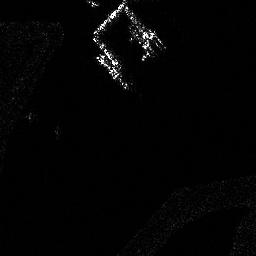ship: (95, 53, 121, 79)
